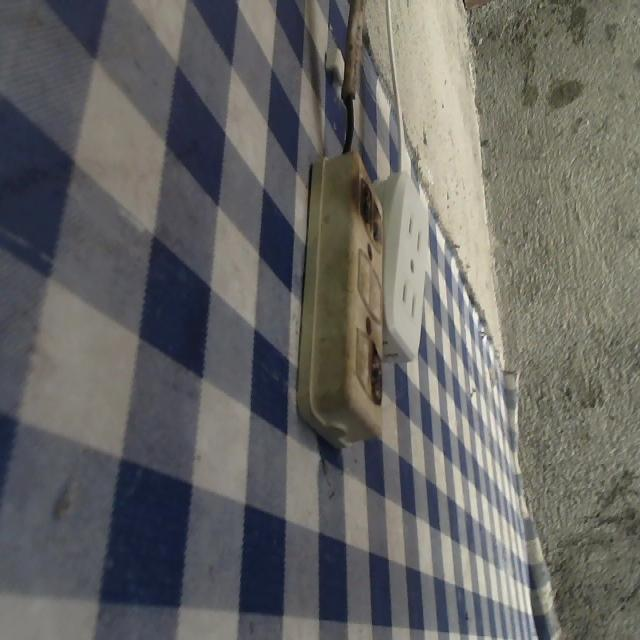-: (356, 176, 385, 241), (367, 341, 389, 400)
